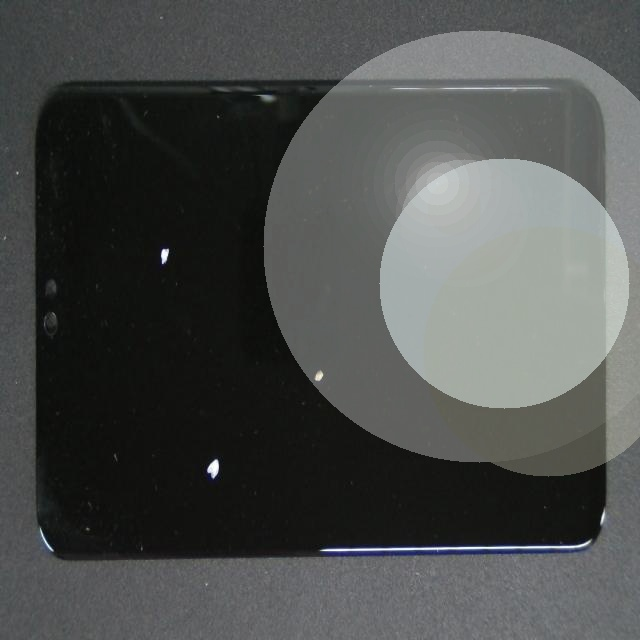stain: (166, 171, 474, 536), (123, 230, 334, 640), (103, 119, 254, 352)
